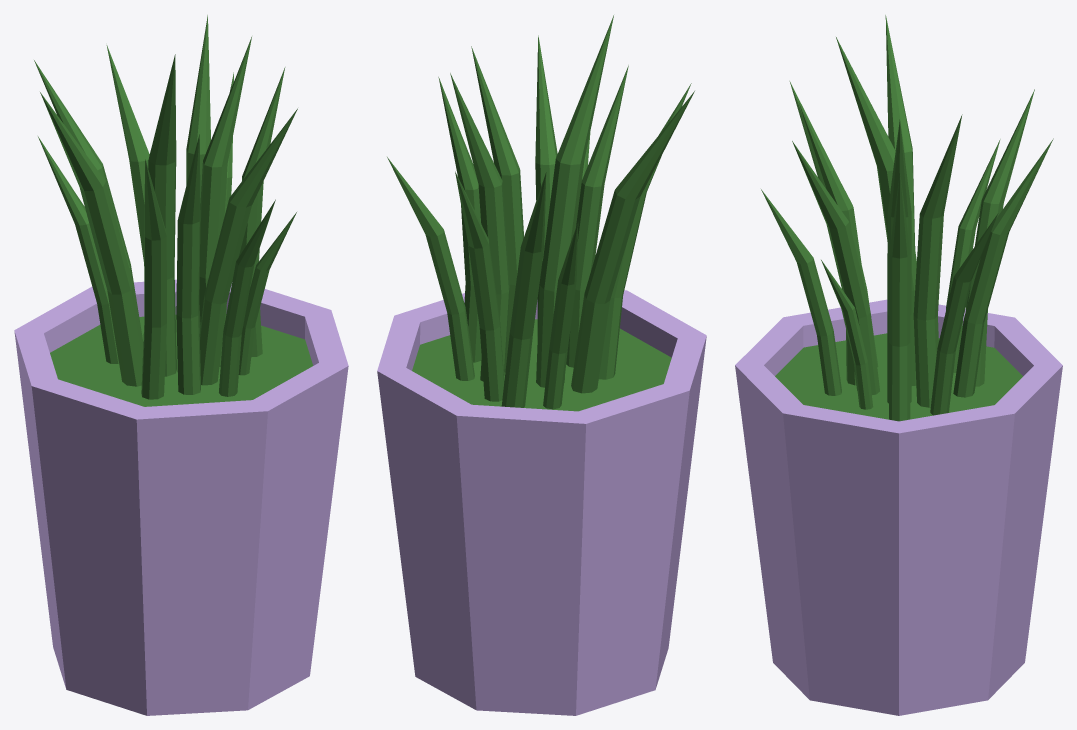
The model's file is Office_Flower_2.fbx.
3 views of the same model, side by side, from view 1: azimuth 30°, elevation 25°; view 2: azimuth 150°, elevation 25°; view 3: azimuth 270°, elevation 25° (orthographic). The views are drawn at different scales.
Parts seen in each view (by area): view 1: Office_Flower_2; view 2: Office_Flower_2; view 3: Office_Flower_2.
Part boxes in pixels (x1,y1,x2,y2): Office_Flower_2: [14, 15, 348, 715]; Office_Flower_2: [377, 15, 706, 715]; Office_Flower_2: [735, 15, 1062, 715].
Size of the model in its own units: 33.71 by 69.07 by 33.71.
